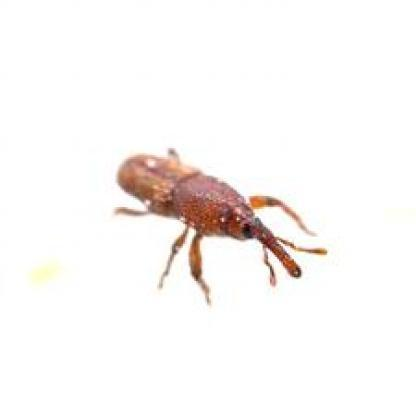rice-bug: (108, 144, 309, 296)
